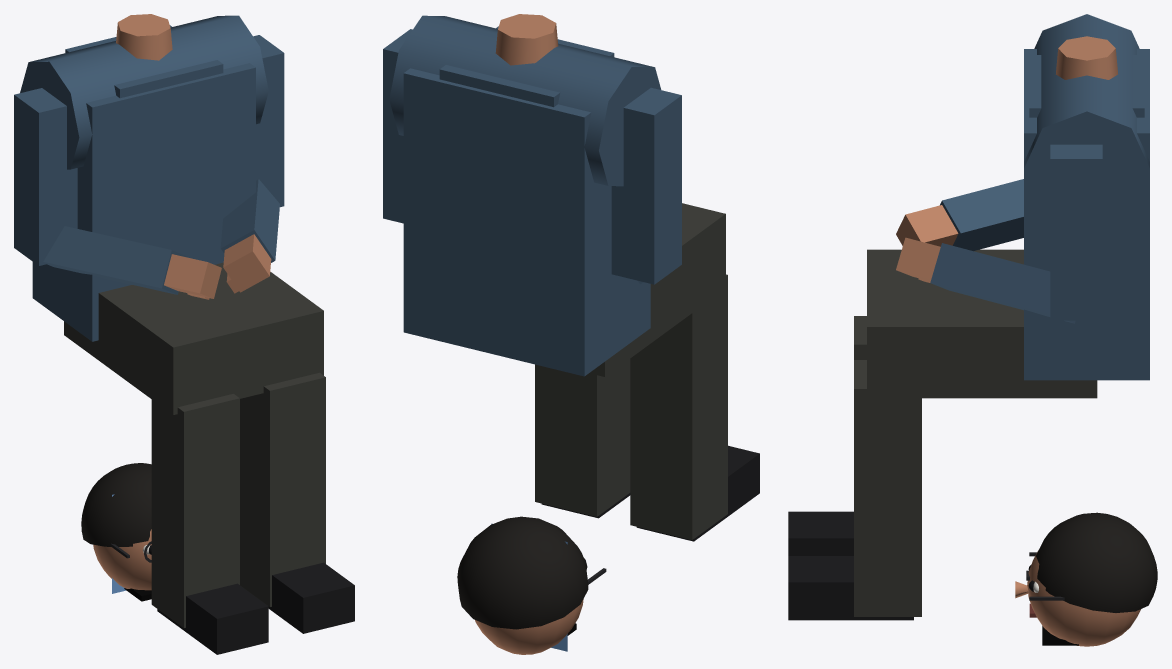
Rendered from dad.fbx.
3 views of the same model, side by side, from view 1: azimuth 30°, elevation 25°; view 2: azimuth 150°, elevation 25°; view 3: azimuth 270°, elevation 25° (orthographic). The views are drawn at different scales.
Visible parts, largest first — view 1: Mesh_11, Mesh_12, Mesh_13, Body_Skin, Mesh_0, Head_Skin; view 2: Mesh_11, Mesh_12, Mesh_0, Body_Skin, Head_Skin, Mesh_13; view 3: Mesh_11, Mesh_12, Mesh_0, Mesh_13, Body_Skin, Head_Skin.
Part boxes in pixels (bbox=[...]): Mesh_11: bbox=[14, 15, 284, 341]; Mesh_12: bbox=[64, 262, 325, 627]; Mesh_13: bbox=[157, 562, 354, 654]; Body_Skin: bbox=[116, 14, 271, 299]; Mesh_0: bbox=[81, 463, 151, 546]; Head_Skin: bbox=[93, 529, 151, 590]; Mesh_11: bbox=[383, 15, 681, 376]; Mesh_12: bbox=[535, 203, 727, 539]; Mesh_0: bbox=[457, 516, 588, 629]; Body_Skin: bbox=[495, 14, 558, 65]; Head_Skin: bbox=[475, 599, 583, 654]; Mesh_13: bbox=[541, 445, 759, 541]; Mesh_11: bbox=[930, 14, 1149, 380]; Mesh_12: bbox=[854, 249, 1097, 616]; Mesh_0: bbox=[1036, 512, 1157, 612]; Mesh_13: bbox=[788, 511, 913, 620]; Body_Skin: bbox=[896, 36, 1117, 282]; Head_Skin: bbox=[1015, 550, 1140, 646].
Size of the model in its own units: 0.57 by 1.25 by 0.7048.
